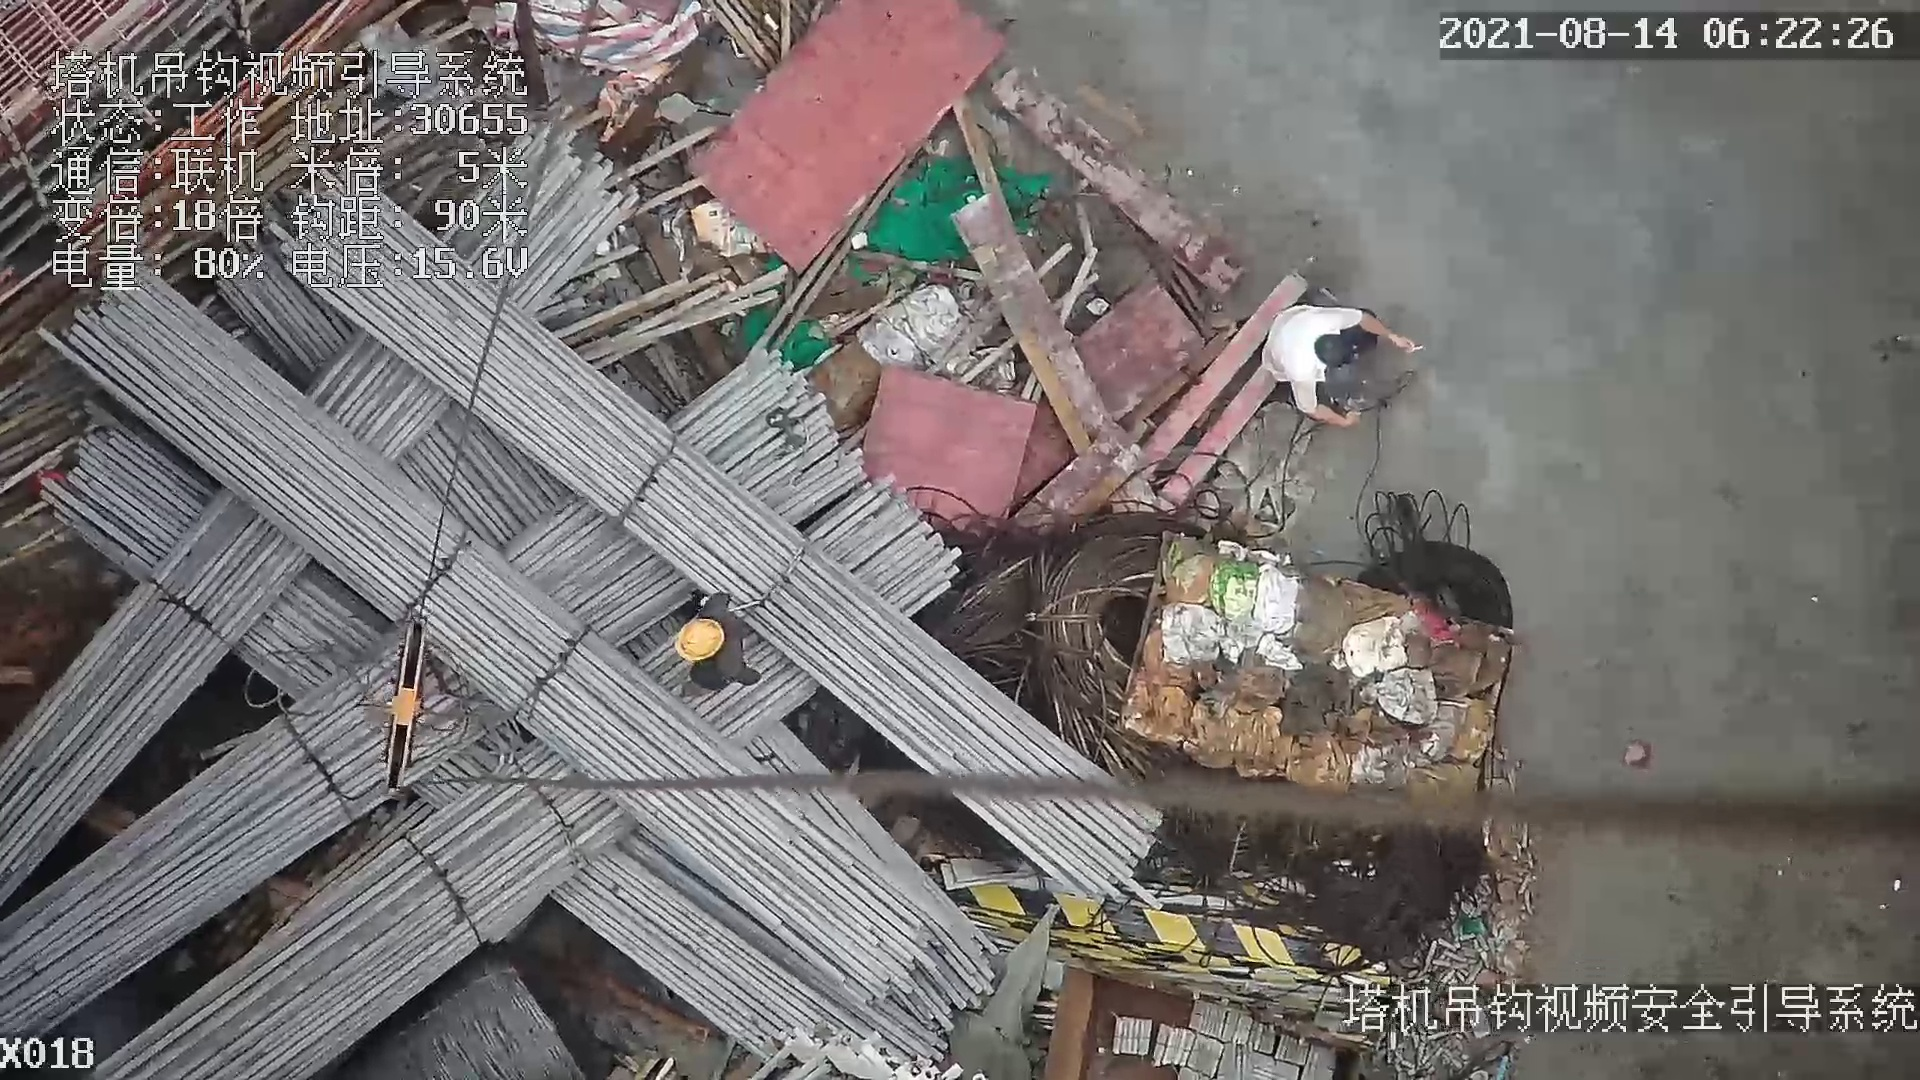board: (685, 2, 1012, 282)
helmet: (677, 622, 722, 657)
hook: (379, 612, 446, 808)
person: (1269, 291, 1423, 431), (670, 596, 772, 692)
